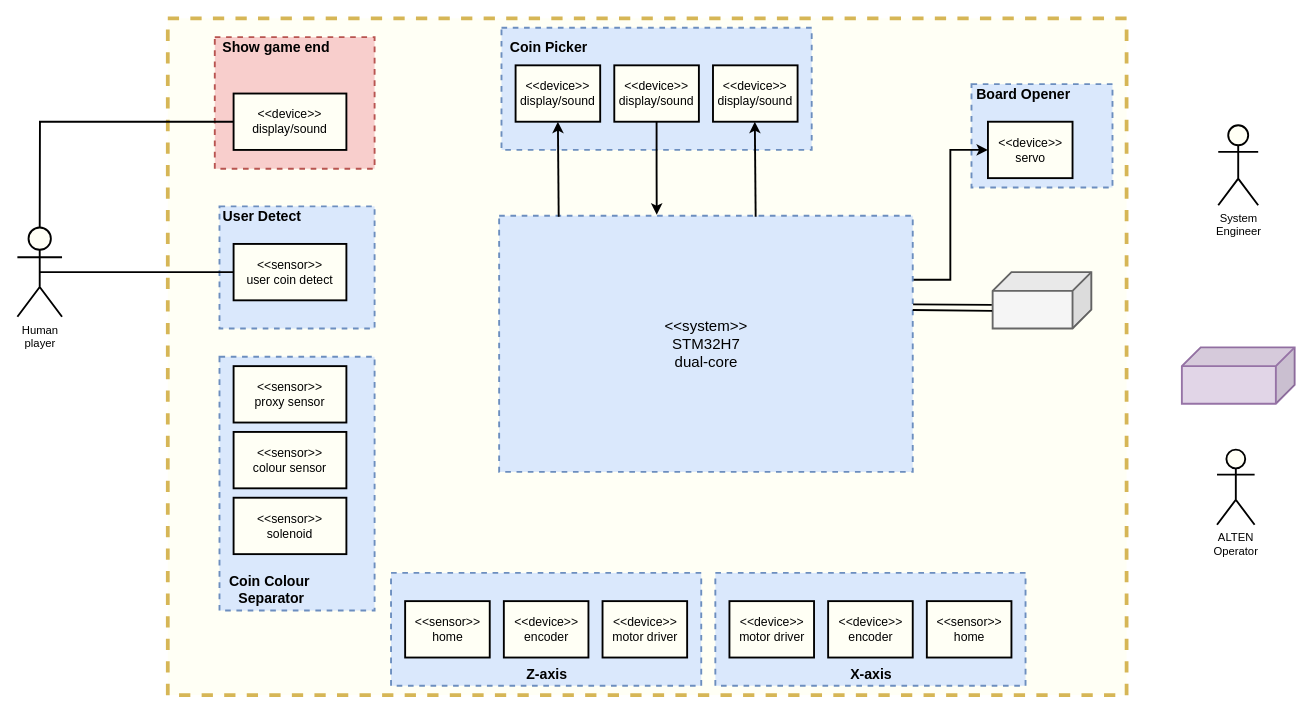
Some shapes in this 1311 by 713 pixel diagram are drawn without their labels. The box of each missing label's shape, as (x1, y1, x2, y2) in pixels:
Raspberry Pi: (991, 271, 1092, 329)
System Engineer PC: (1180, 346, 1295, 404)
